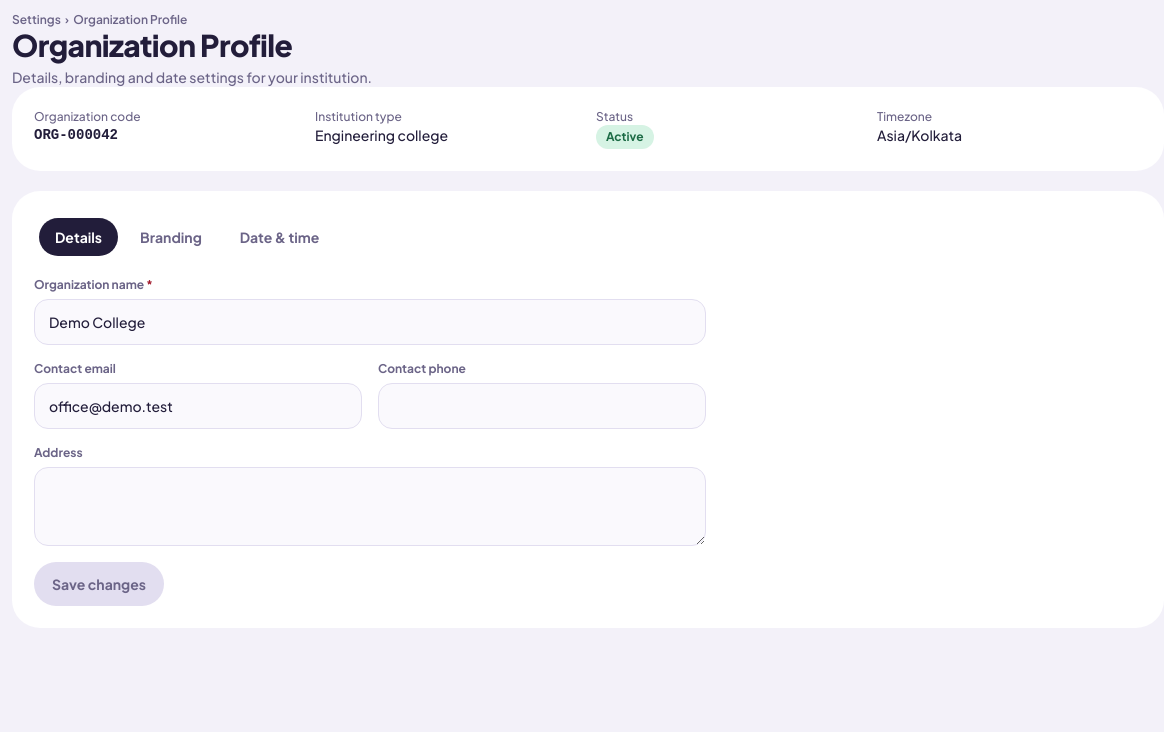
Test: OrganizationProfilePage › Save is disabled until something changes, then sends only valid, normalised data
This screenshot has width=1164, height=732.
Expected: the button "Save changes" is disabled, left=34, top=562, right=164, bottom=606
Replace the text in the field labelled "Organization name *" with "Renamed College" at [370, 322], box left=34, top=299, right=706, bottom=345
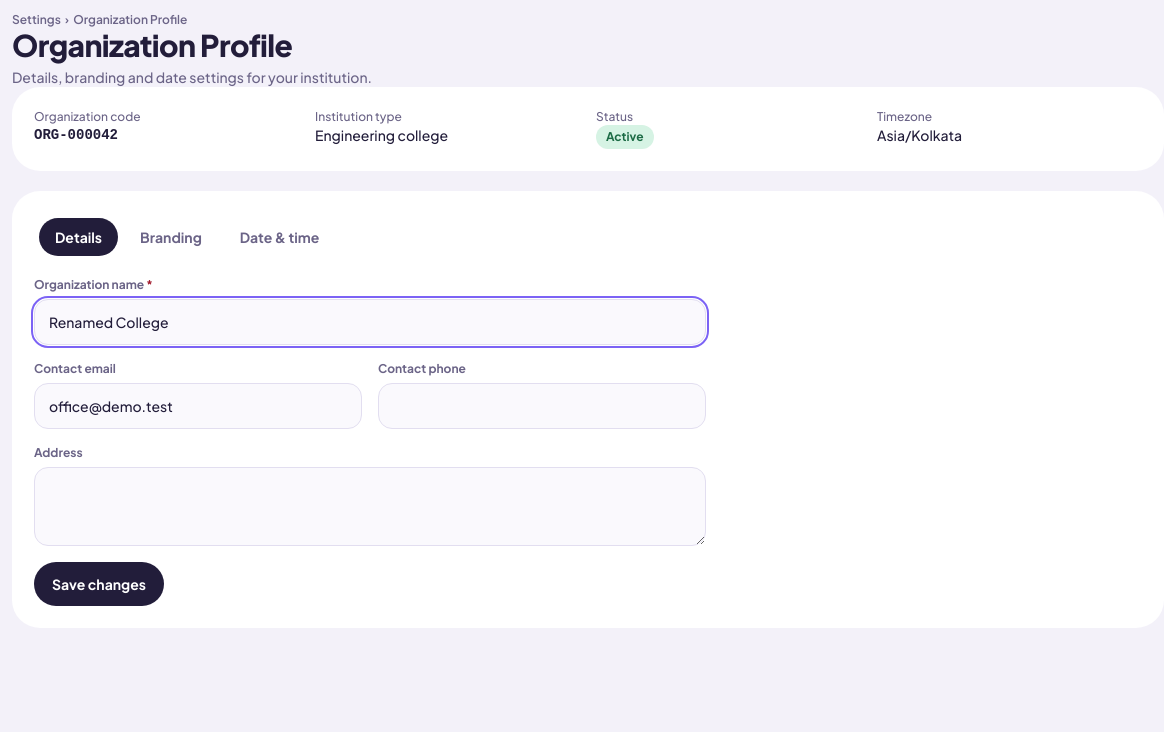
Result: the button "Save changes" is enabled
Click the button "Save changes" at [99, 584], box left=34, top=562, right=164, bottom=606
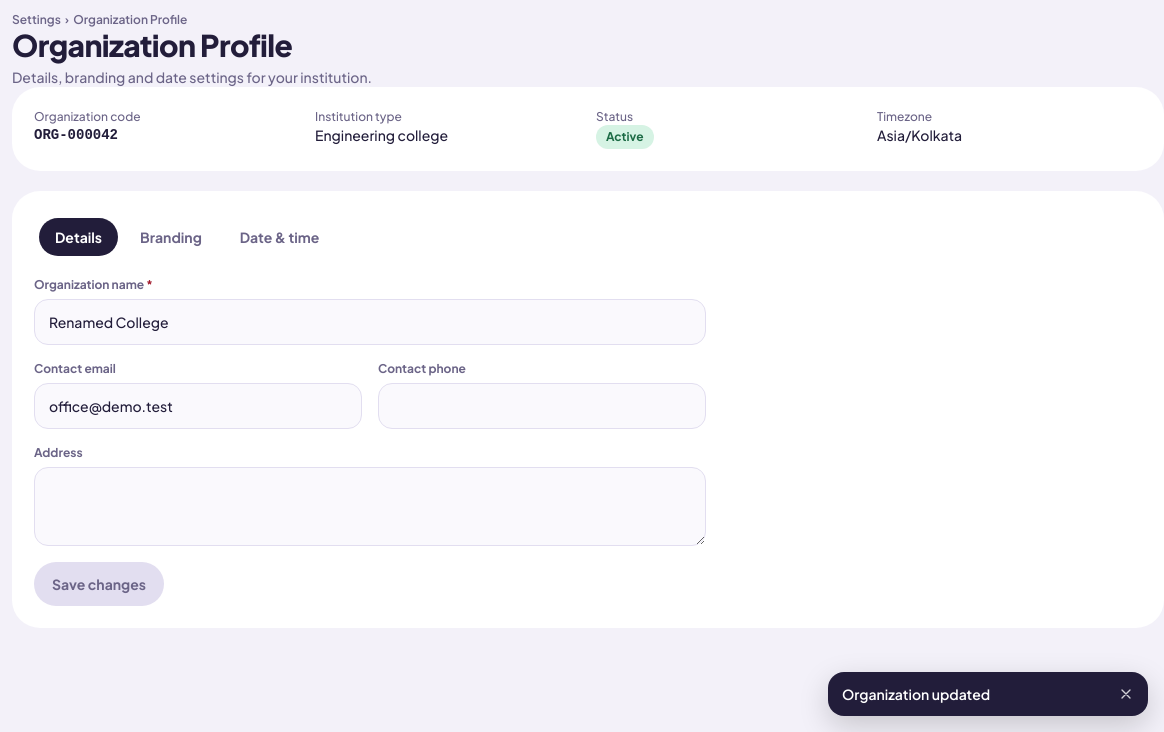
Result: the text "Organization updated" is shown at left=842, top=685, right=990, bottom=703
Result: the button "Save changes" is disabled at left=34, top=562, right=164, bottom=606
